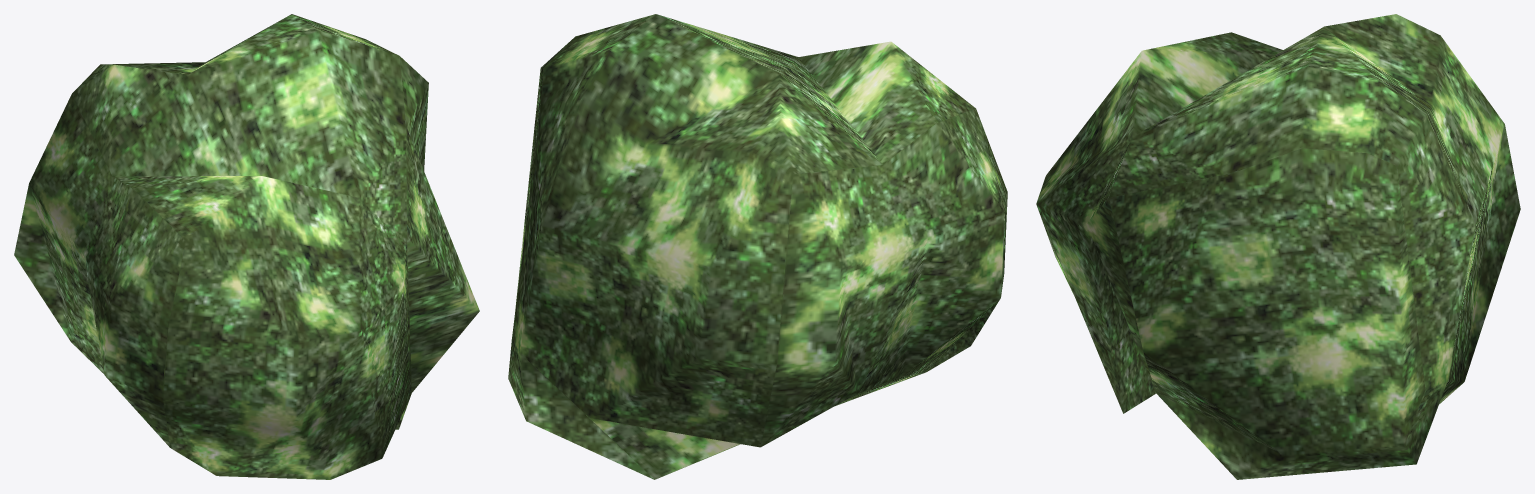
File: asteroid_acid_small_s02_l2.fbx
The picture shows the model from 3 angles, left to right: view 1: azimuth 30°, elevation 25°; view 2: azimuth 150°, elevation 25°; view 3: azimuth 270°, elevation 25°; orthographic projection. The views are drawn at different scales.
Visible parts, largest first — view 1: mesh_node; view 2: mesh_node; view 3: mesh_node.
Boxes of the visible parts, left/top/right/bottom form: mesh_node: left=14, top=14, right=479, bottom=479; mesh_node: left=508, top=14, right=1007, bottom=479; mesh_node: left=1036, top=14, right=1520, bottom=479.
Bounding box in the file's own units: 23.75 × 24.23 × 25.97.
Materials: 1 (1 with a texture image).
